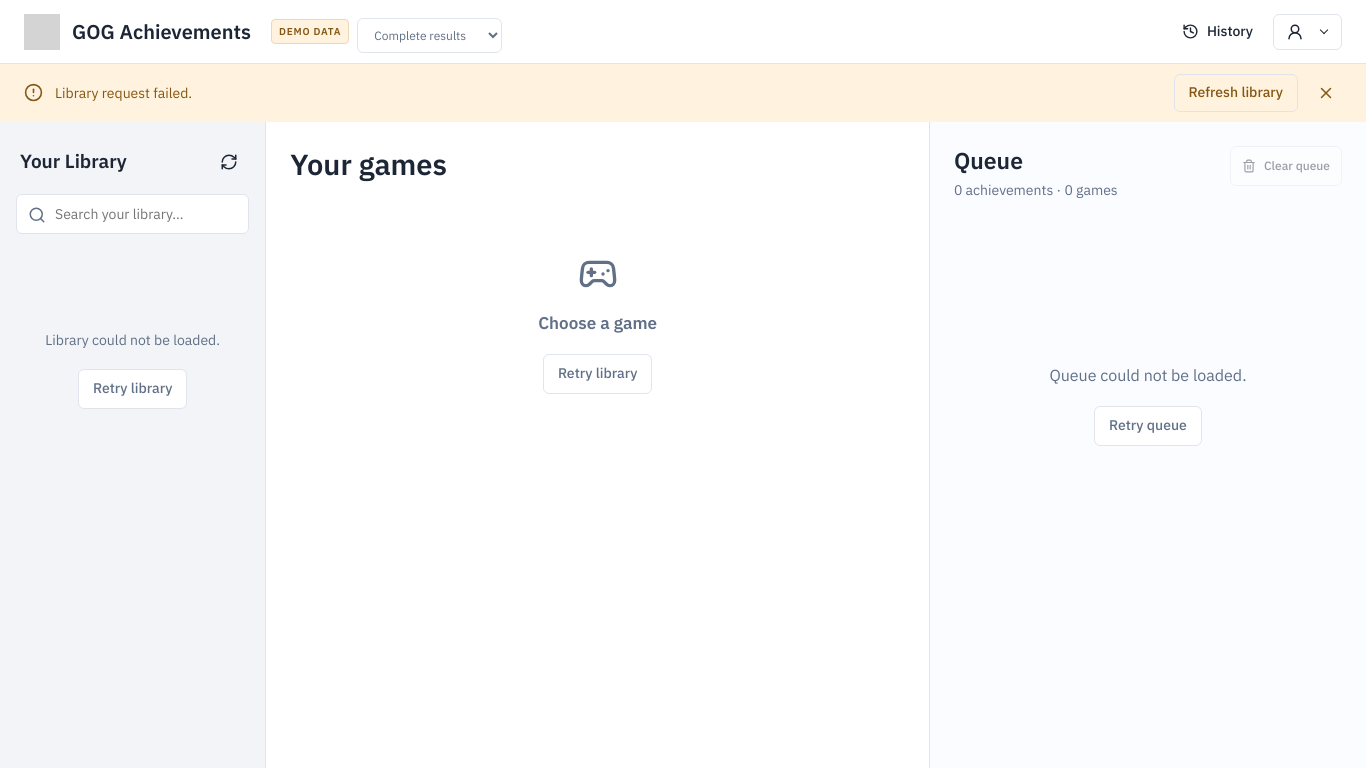
Scenario: ends queue loading with a local retry when both the initial library and saved drafts fail
Expected: the text "Queue could not be loaded." is shown, [1049, 363, 1246, 388]
Expected: the message "Library request failed. Refresh library" is shown, [0, 64, 1365, 122]
Step 1. Click the button "Retry queue" → (1148, 426), box [1094, 406, 1202, 446]
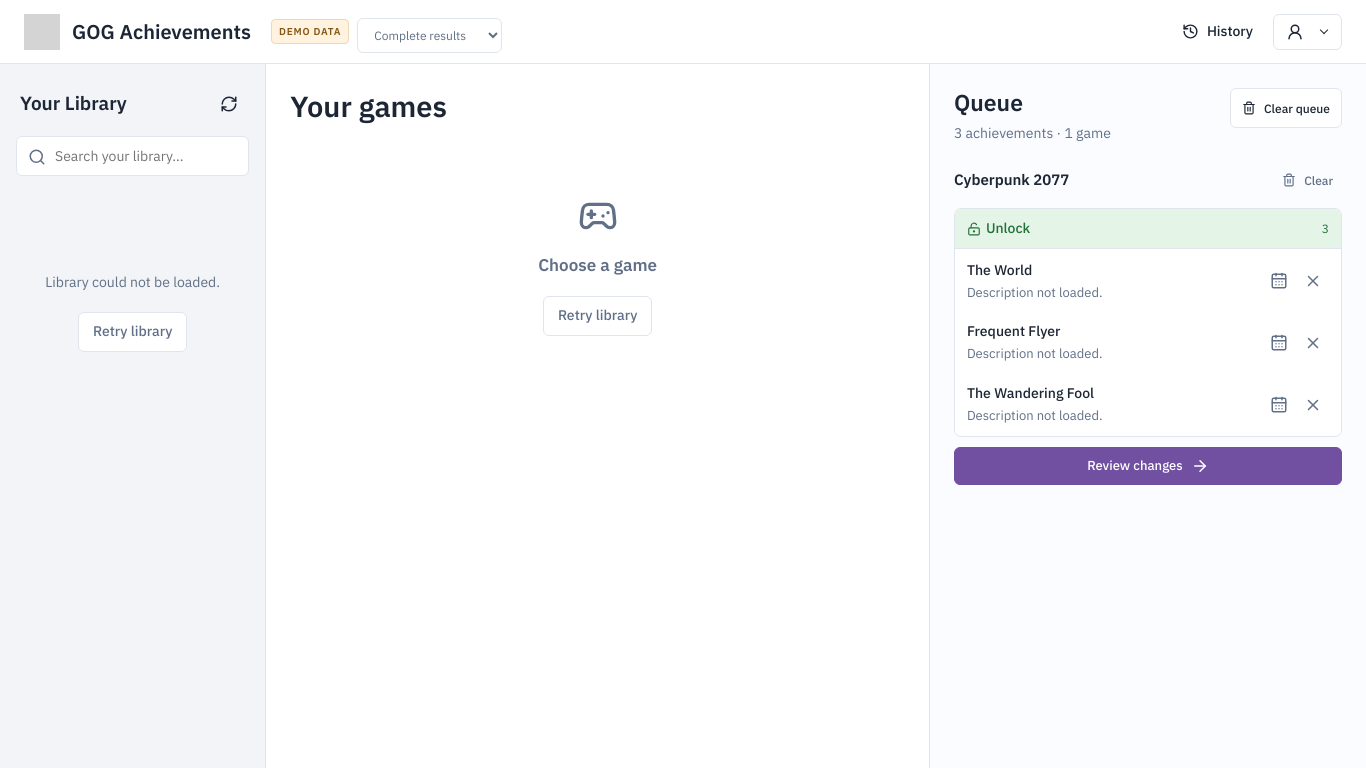
Expected: the button named "Review changes for Cyberpunk 2077" is enabled, [954, 447, 1342, 485]
Expected: the text "Queue could not be loaded." is gone
